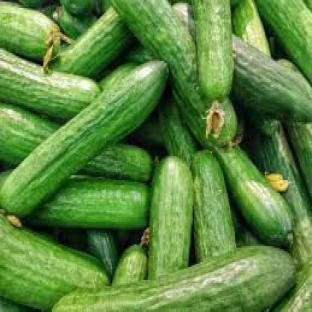Cucumber: (0, 62, 167, 217), (54, 247, 295, 311), (0, 216, 108, 310), (250, 126, 311, 265), (216, 147, 292, 246), (0, 49, 99, 120), (233, 36, 311, 122), (26, 179, 149, 229), (51, 9, 133, 77), (149, 156, 192, 279), (192, 152, 236, 262), (0, 103, 59, 165), (0, 2, 60, 61), (81, 144, 154, 181), (160, 100, 197, 165), (285, 123, 311, 197), (273, 264, 311, 311), (87, 230, 118, 278), (113, 245, 146, 286), (231, 203, 261, 247), (127, 115, 165, 149), (56, 7, 96, 38), (44, 229, 87, 252), (99, 63, 137, 88), (173, 2, 196, 40), (249, 111, 280, 136), (123, 46, 155, 64), (0, 298, 28, 311), (39, 4, 57, 22), (0, 171, 12, 188)
